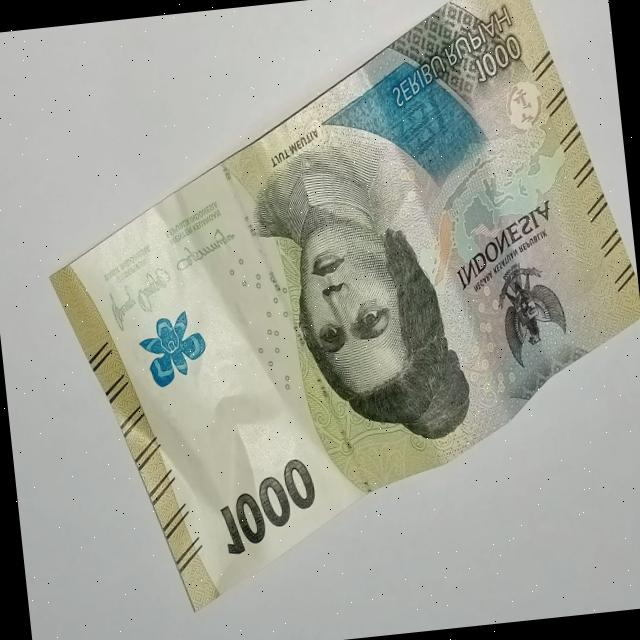1K: (17, 0, 640, 635)
